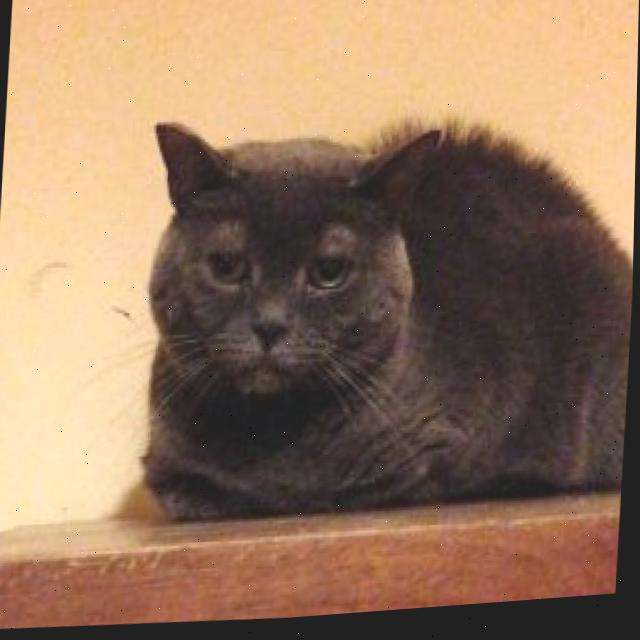British Shorthair: (129, 87, 638, 547)
